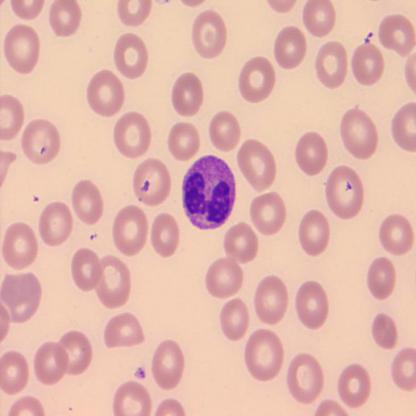Segmented neutrophil: (181, 152, 237, 231)
